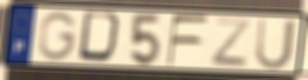5: (127, 12, 162, 68)
D: (76, 9, 127, 66)
F: (165, 14, 211, 68)
G: (37, 10, 81, 62)
U: (254, 16, 298, 71)
Z: (209, 17, 253, 69)
